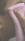with_mask: (1, 1, 25, 41)
